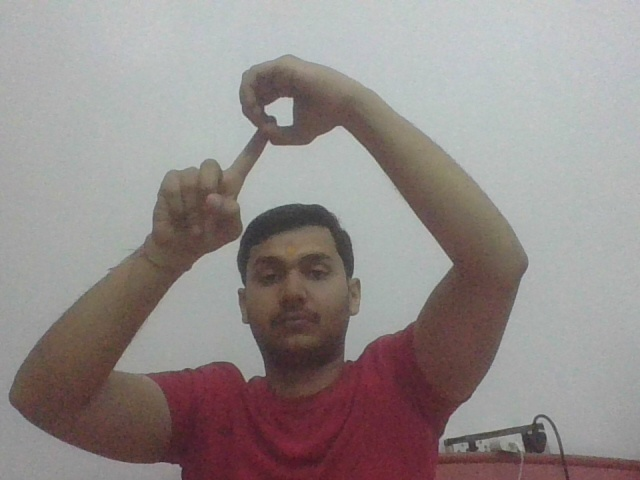Q: (164, 56, 328, 205)
